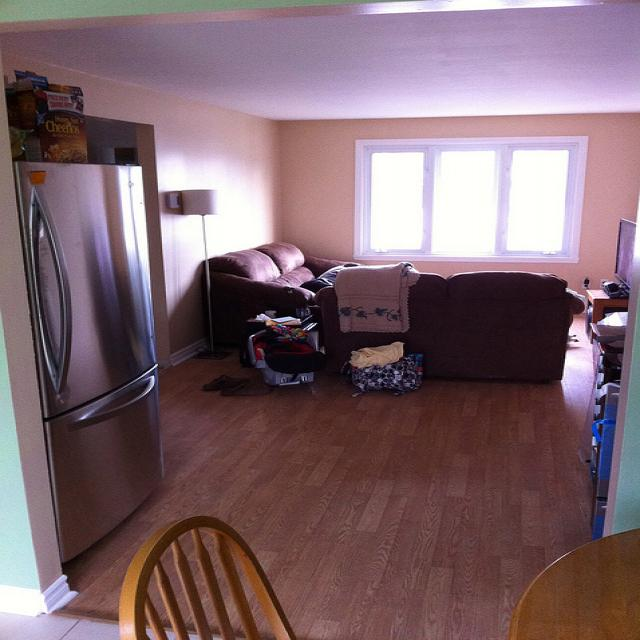chair: (118, 516, 293, 630)
dining table: (501, 524, 640, 632)
